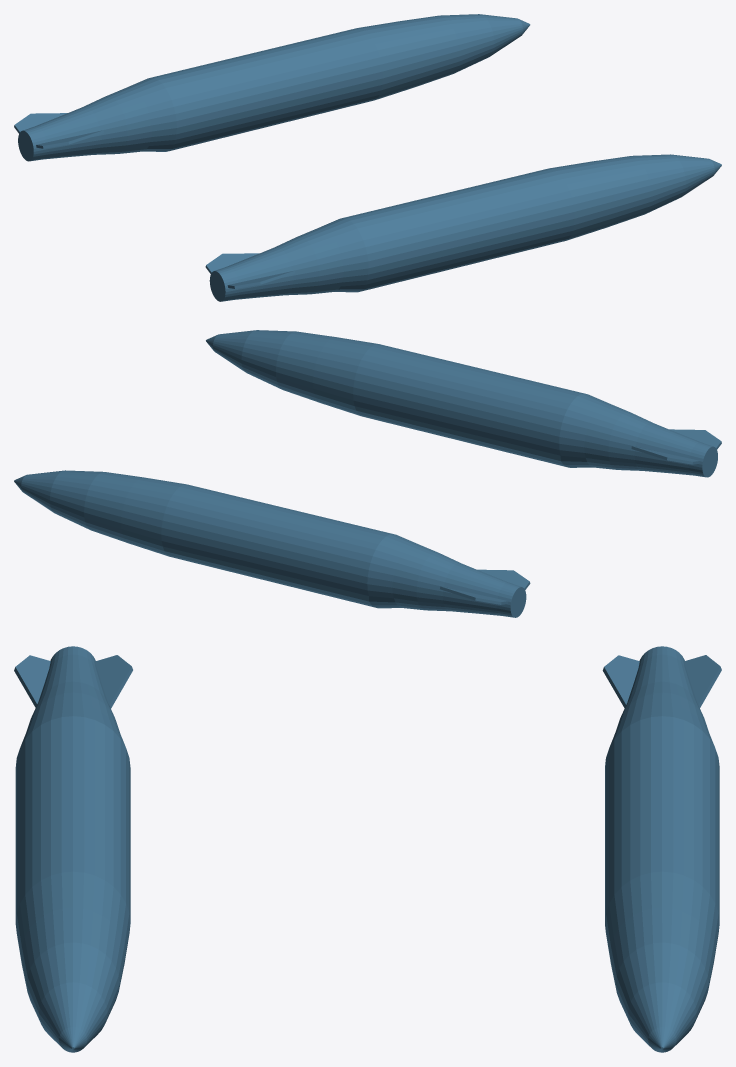
The picture shows the model from 3 angles, top to bottom: view 1: azimuth 30°, elevation 25°; view 2: azimuth 150°, elevation 25°; view 3: azimuth 270°, elevation 25°; orthographic projection. The views are drawn at different scales.
Parts seen in each view (by area): view 1: 円柱, 円柱.001, 立方体, 立方体.008; view 2: 円柱.001, 円柱, 立方体.009, 立方体.001; view 3: 円柱, 円柱.001, 立方体, 立方体.008, 立方体.009, 立方体.001.
Boxes of the visible parts, x1,y1,x2,y2 form: 円柱: (209, 154, 721, 301); 円柱.001: (18, 14, 530, 161); 立方体: (205, 253, 259, 273); 立方体.008: (14, 113, 67, 133); 円柱.001: (14, 470, 526, 617); 円柱: (206, 330, 717, 477); 立方体.009: (477, 569, 530, 589); 立方体.001: (669, 429, 721, 449); 円柱: (15, 646, 130, 1052); 円柱.001: (605, 646, 719, 1052); 立方体: (95, 655, 132, 708); 立方体.008: (684, 655, 721, 707); 立方体.009: (602, 655, 639, 708); 立方体.001: (14, 655, 50, 707).
Bounding box in the file's own units: 6.44 × 0.8426 × 5.1.
